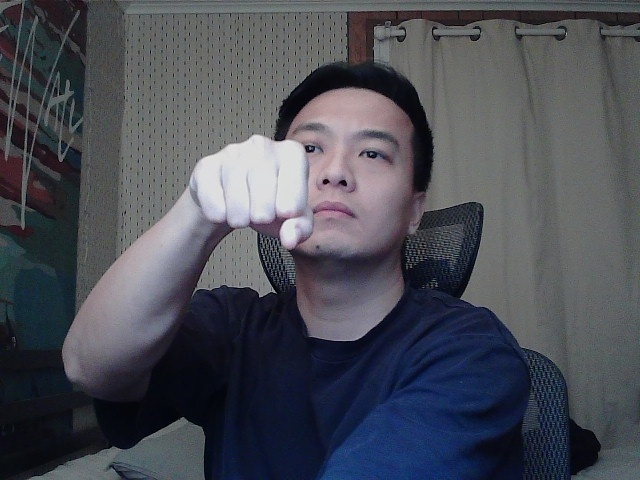Yes: (174, 129, 330, 255)
